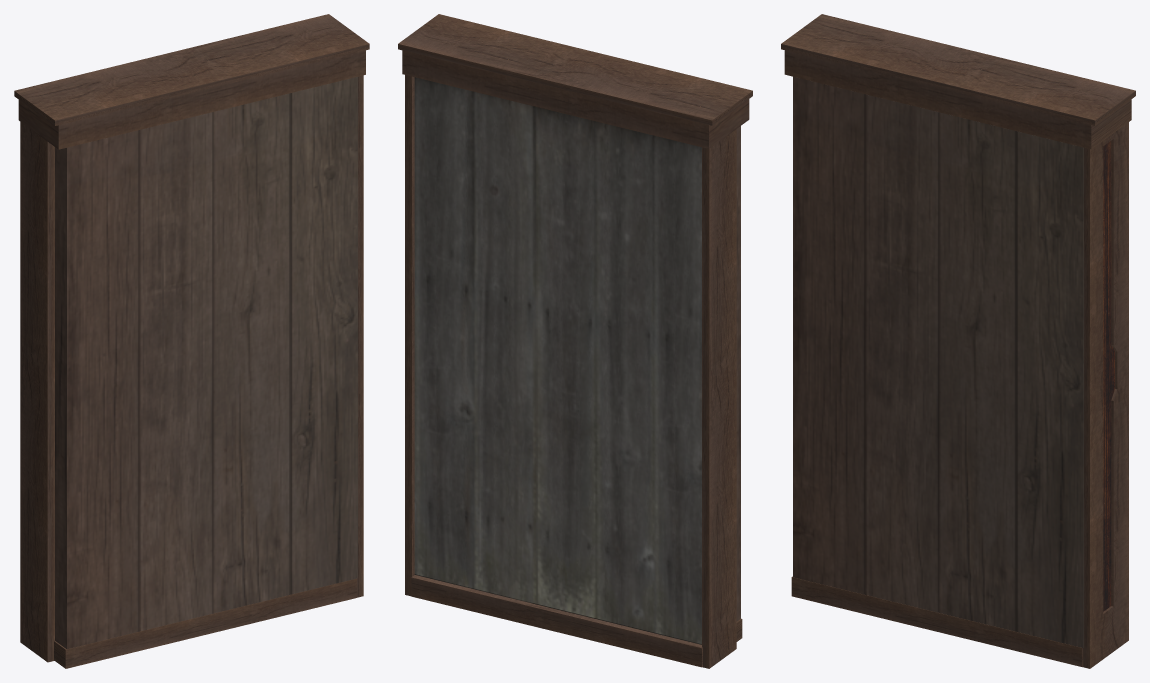
The model's file is amadobox02l.fbx.
3 renders of one model, left to right at view 1: azimuth 30°, elevation 25°; view 2: azimuth 150°, elevation 25°; view 3: azimuth 330°, elevation 25°, orthographic.
Visible parts, largest first — view 1: amadobox02l; view 2: amadobox02l; view 3: amadobox02l.
Part boxes in pixels (x1=…): amadobox02l: x1=14, y1=14, x2=369, y2=668; amadobox02l: x1=398, y1=14, x2=752, y2=668; amadobox02l: x1=781, y1=14, x2=1135, y2=668.
Bounding box in the file's own units: 145 × 243 × 32.63.
